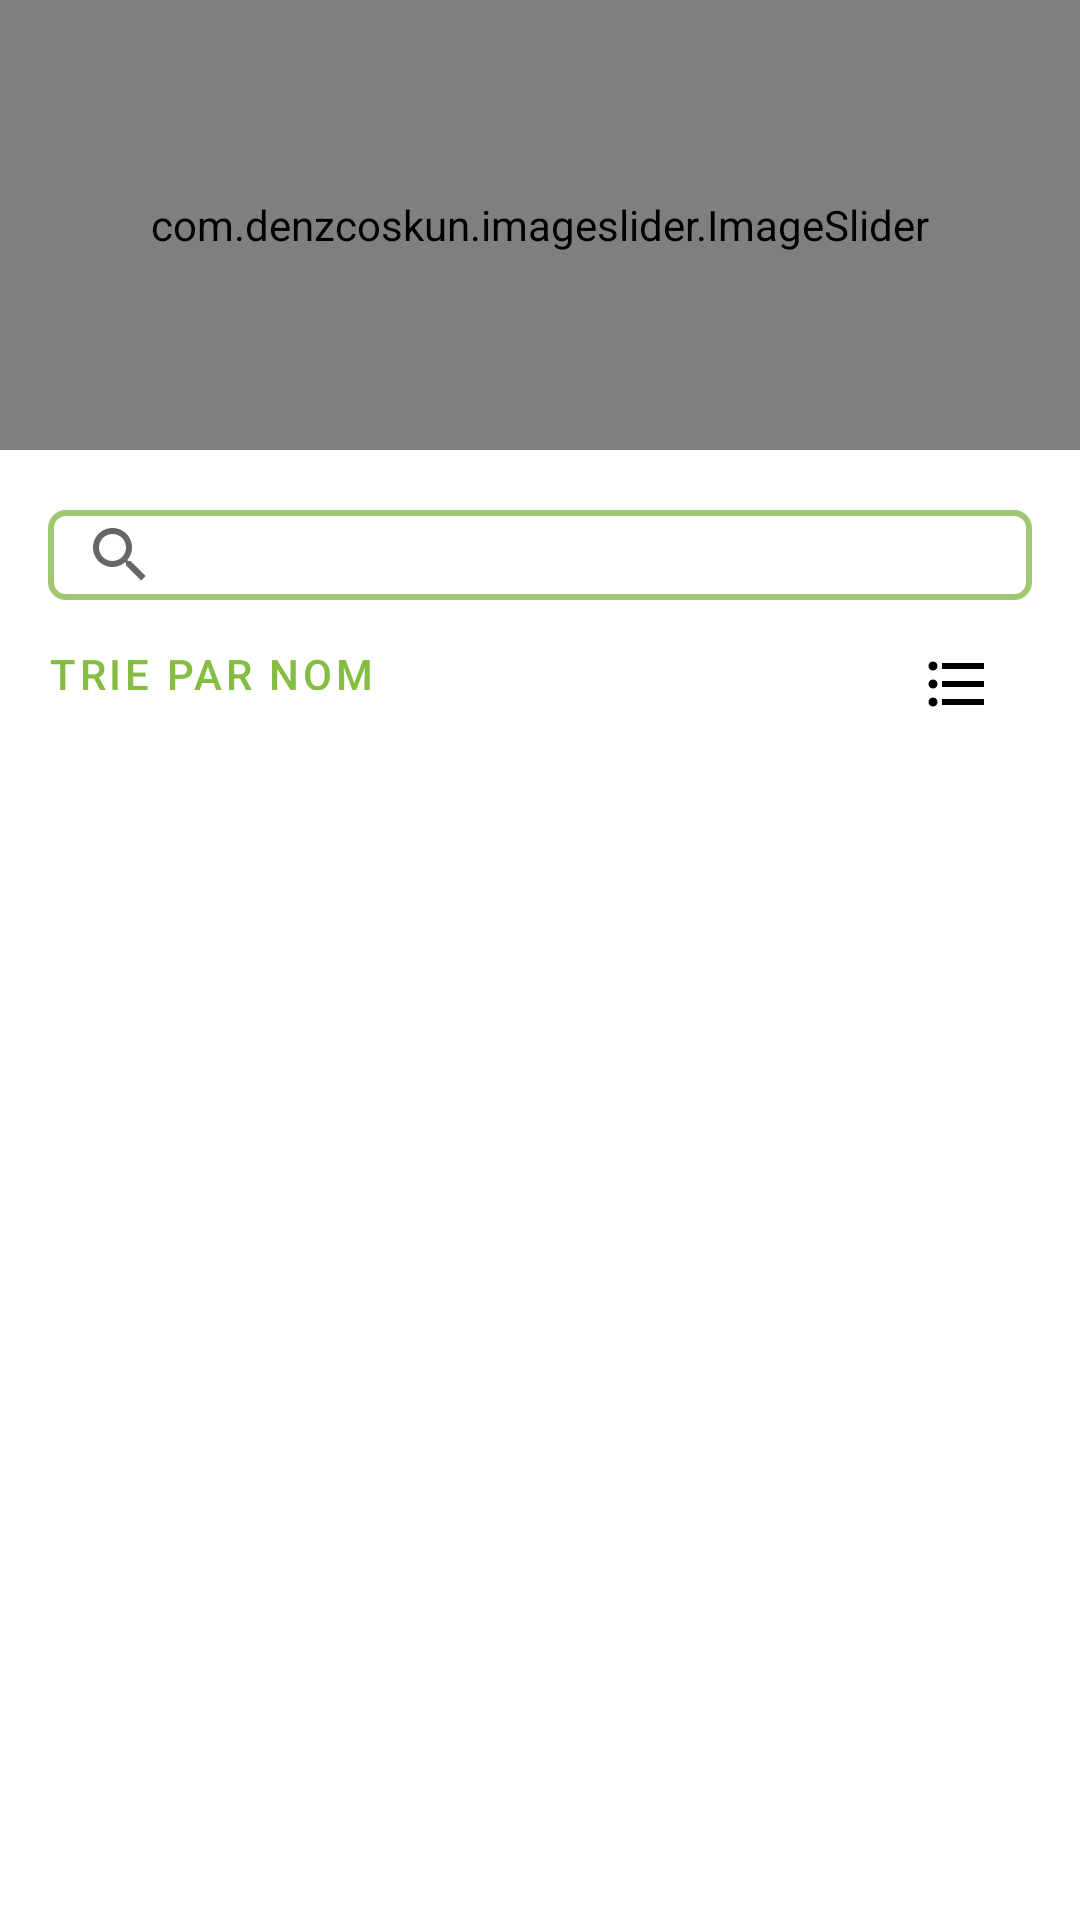

Locate icon controls on the screen. Image size 1080 x 1920, boxes as (x1, y1, x2, y2).
format list bulleted: (928, 661, 984, 707)
